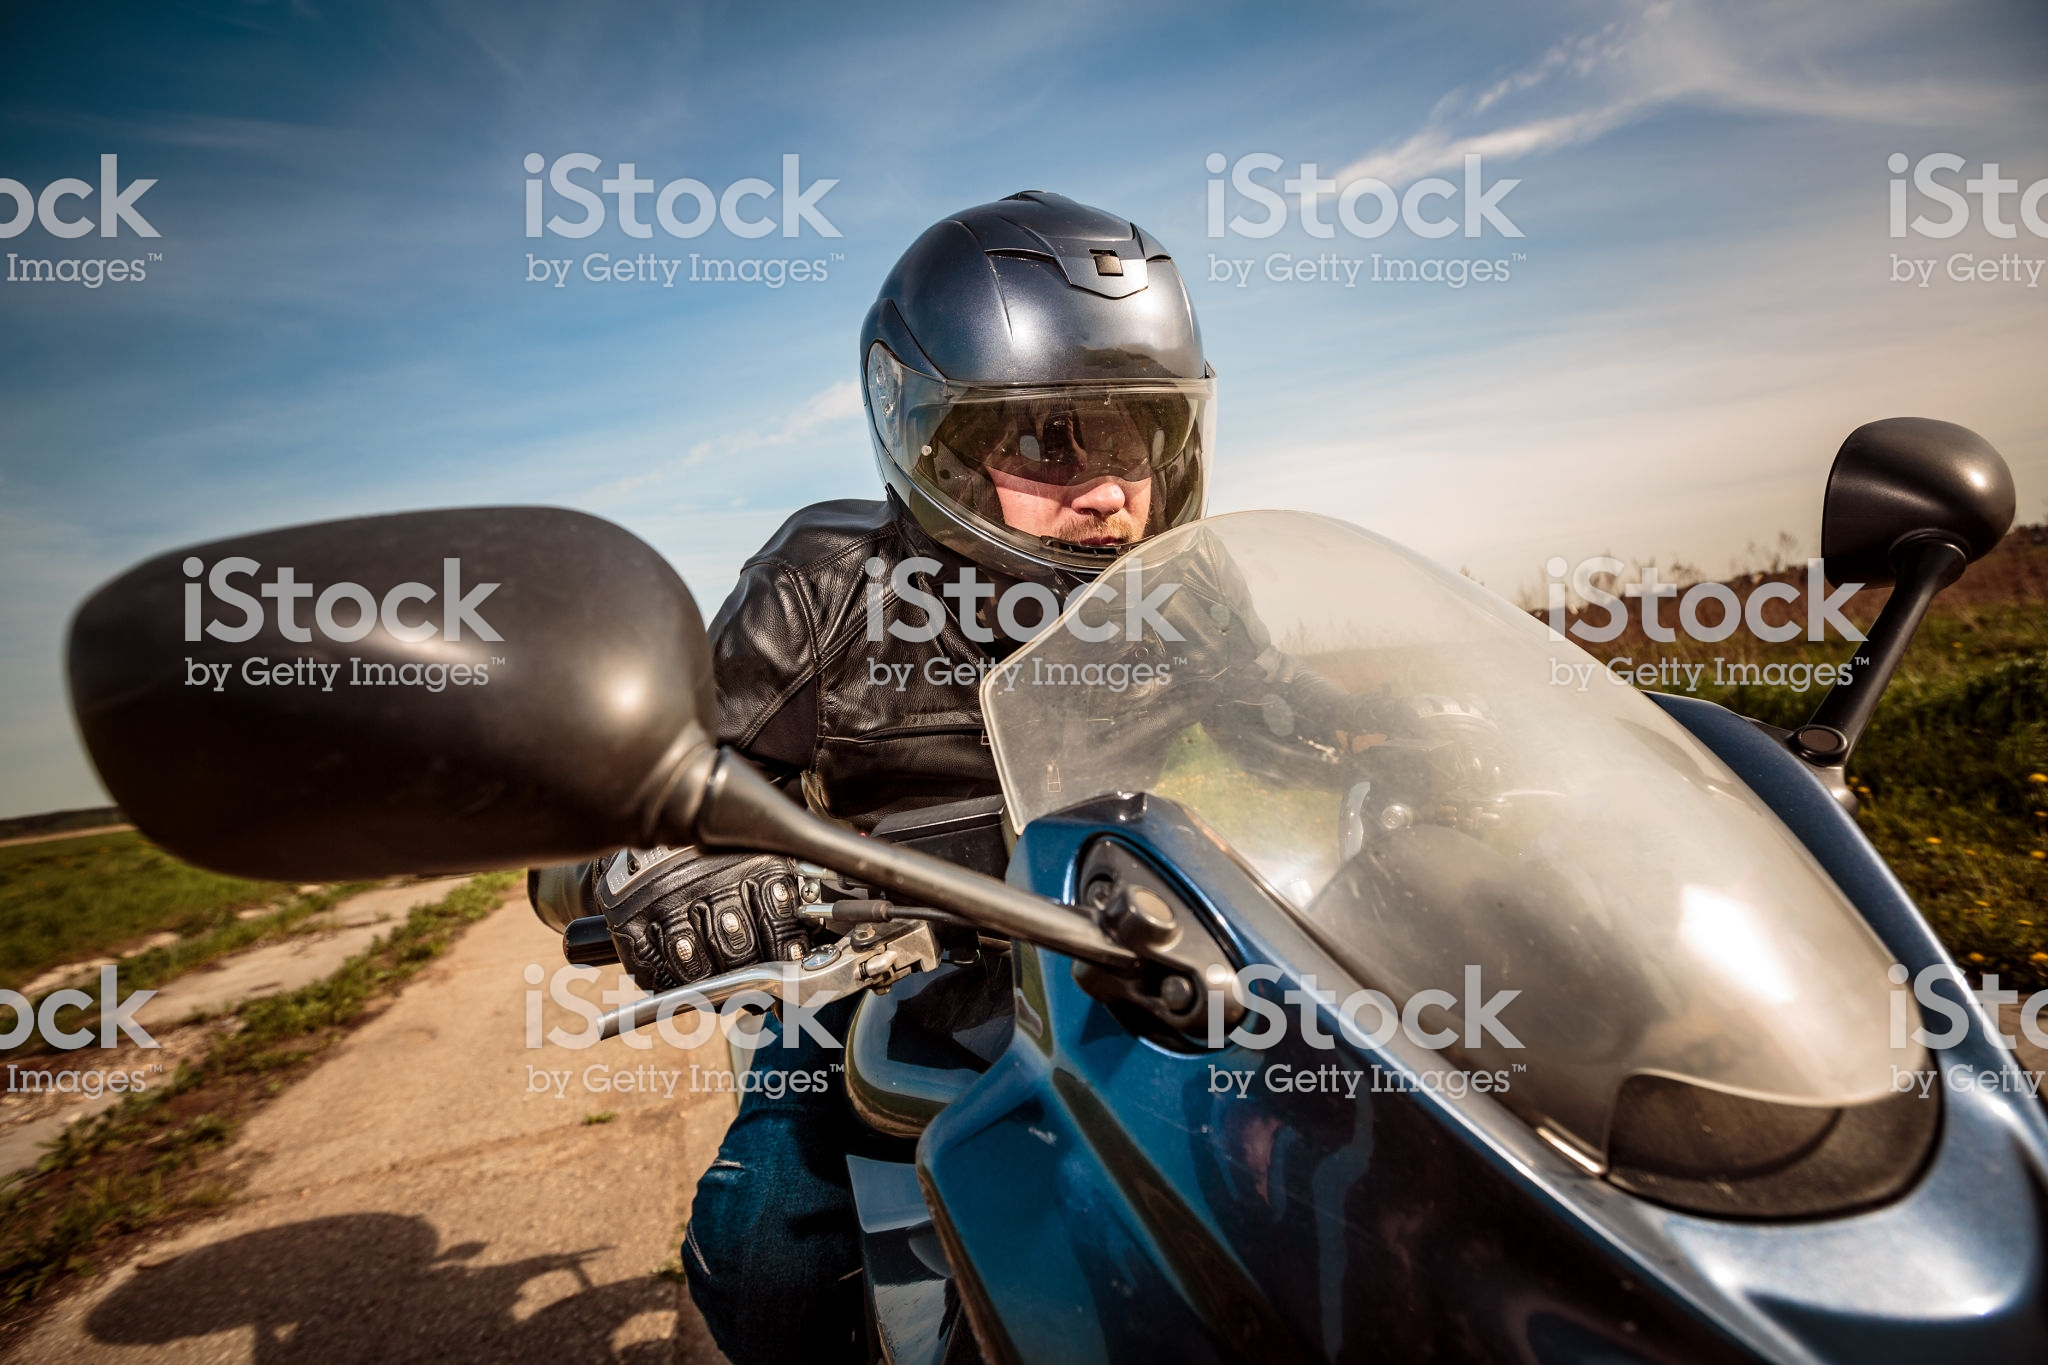helmet: (871, 192, 1204, 573)
